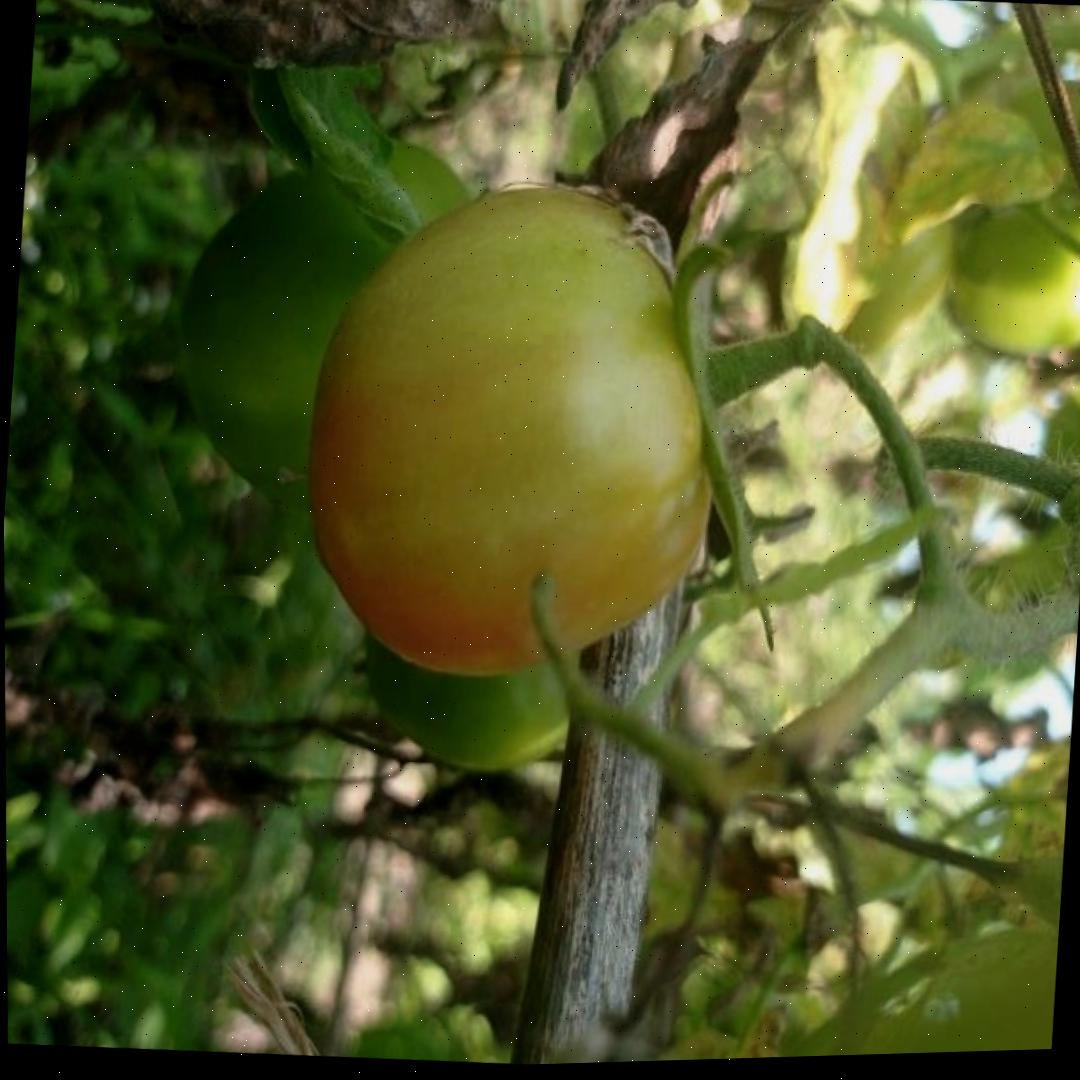setengah_matang: (289, 160, 740, 703)
